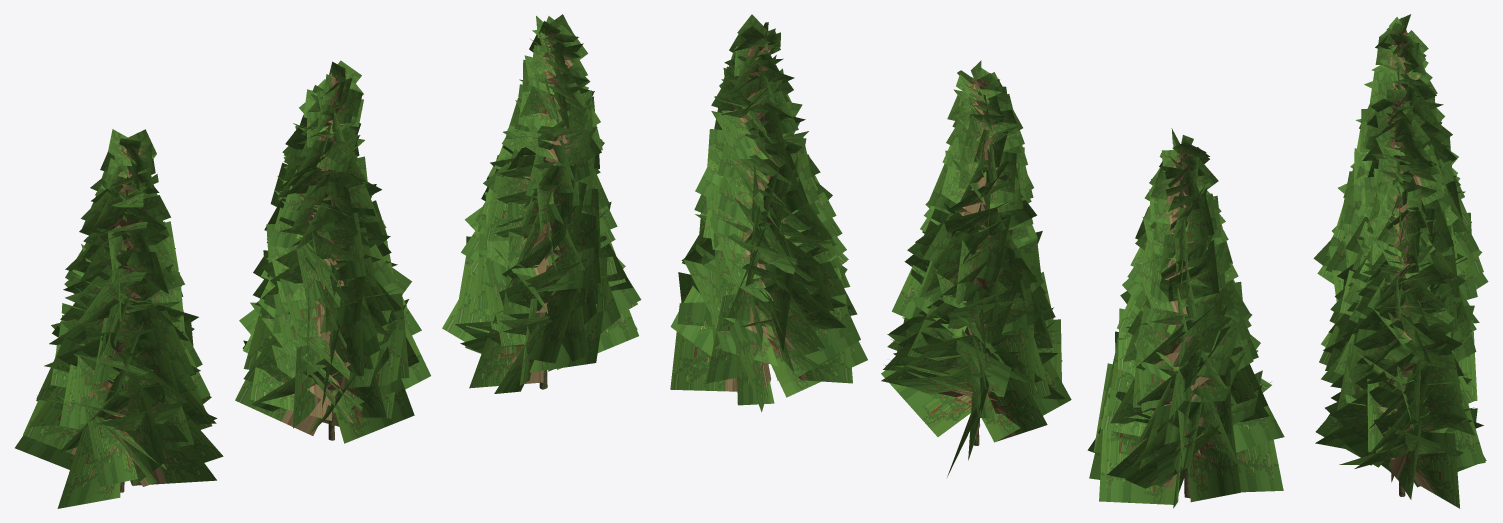
File: tree-pack-1.glb
3 views of the same model, side by side, from view 1: azimuth 30°, elevation 25°; view 2: azimuth 150°, elevation 25°; view 3: azimuth 270°, elevation 25° (orthographic). The views are drawn at different scales.
Visible parts, largest first — view 1: Object_5; view 2: Object_5; view 3: Object_5.
Part boxes in pixels (bbox=[...]): Object_5: bbox=[15, 14, 641, 508]; Object_5: bbox=[670, 14, 1284, 508]; Object_5: bbox=[1313, 14, 1488, 508].
Size of the model in its own units: 2.74 by 1.72 by 0.8423.
Materials: 2 (2 with a texture image).
